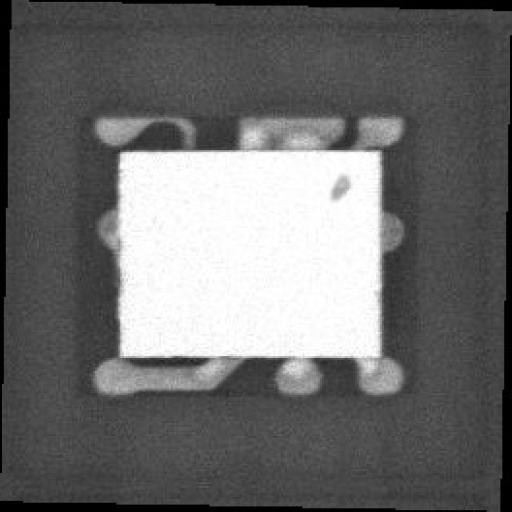DIE_INK: (310, 176, 336, 210)
